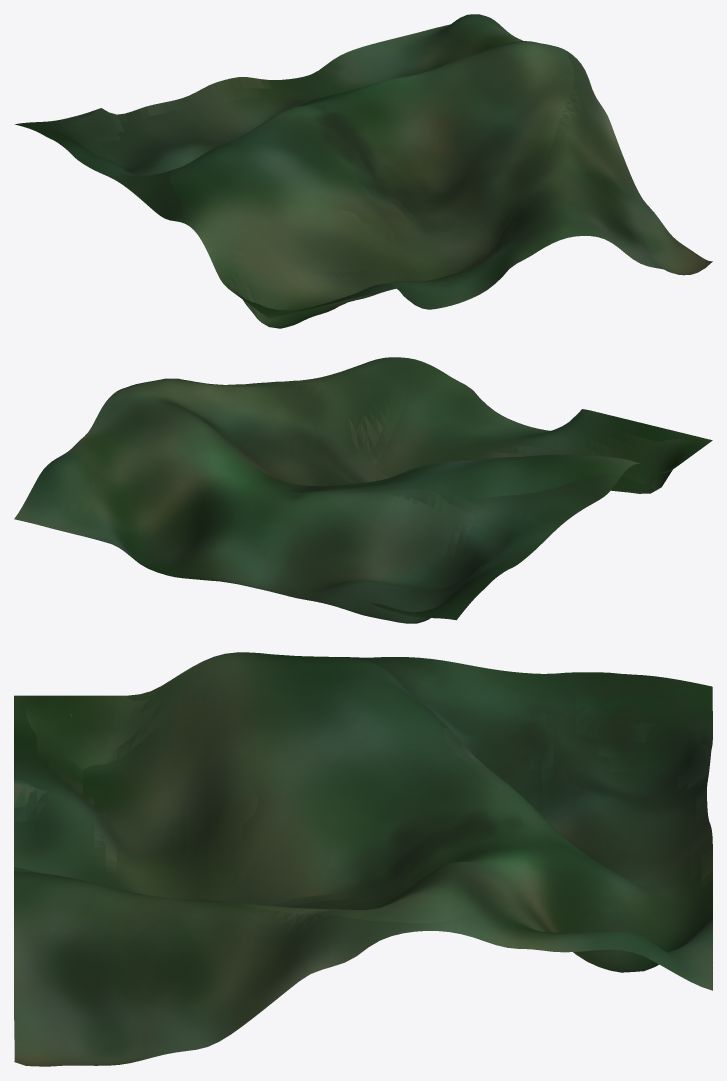
File: ground.gltf
The picture shows the model from 3 angles, top to bottom: view 1: azimuth 30°, elevation 25°; view 2: azimuth 150°, elevation 25°; view 3: azimuth 270°, elevation 25°; orthographic projection. The views are drawn at different scales.
Visible parts, largest first — view 1: Plane; view 2: Plane; view 3: Plane.
Part boxes in pixels (<box>): Plane: <box>15,14,712,328</box>; Plane: <box>14,357,712,623</box>; Plane: <box>14,652,712,1066</box>.
Size of the model in its own units: 570 by 150 by 560.
1 material, 1 textured.
